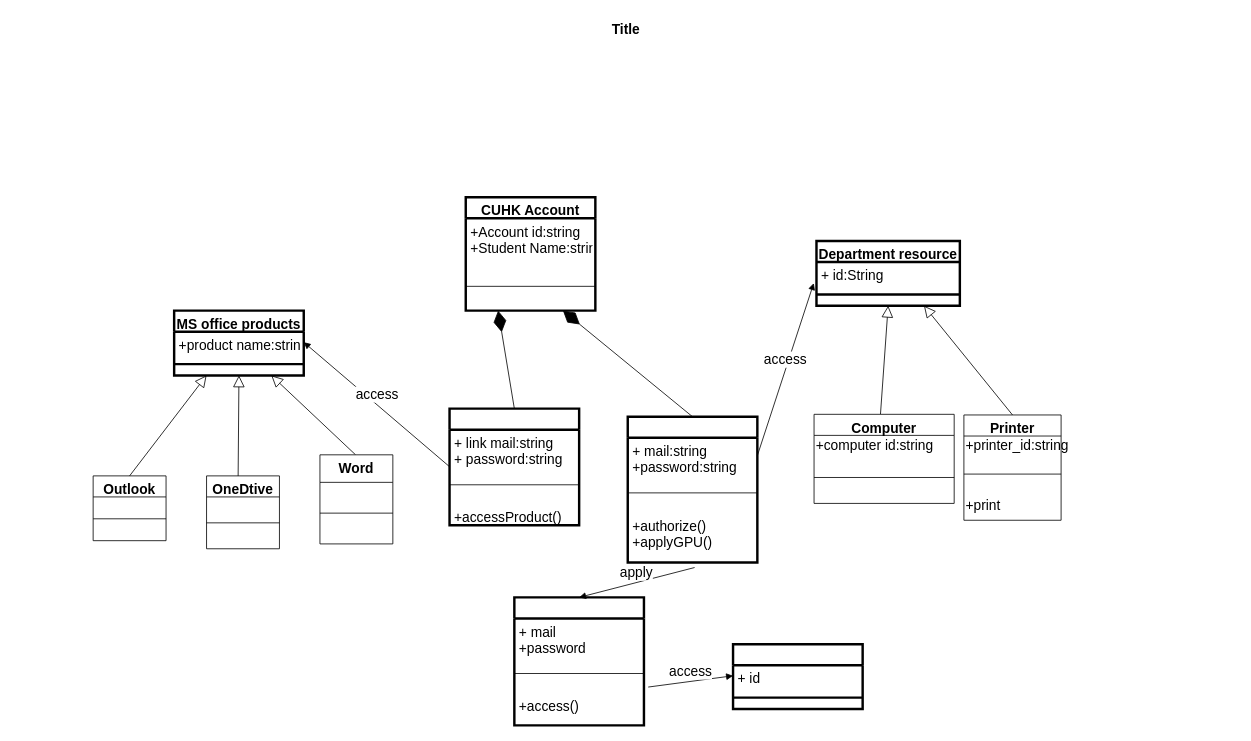
The diagram is 1251 pixels wide and 741 high, and some of its shapes have lost their labels. The box of each missing label's shape, as (x1, y1, x2, y2) in pixels:
Department Account: (626, 415, 758, 563)
GPU: (731, 643, 863, 710)
GPU Account: (513, 596, 645, 726)
Link Account: (448, 407, 580, 526)
